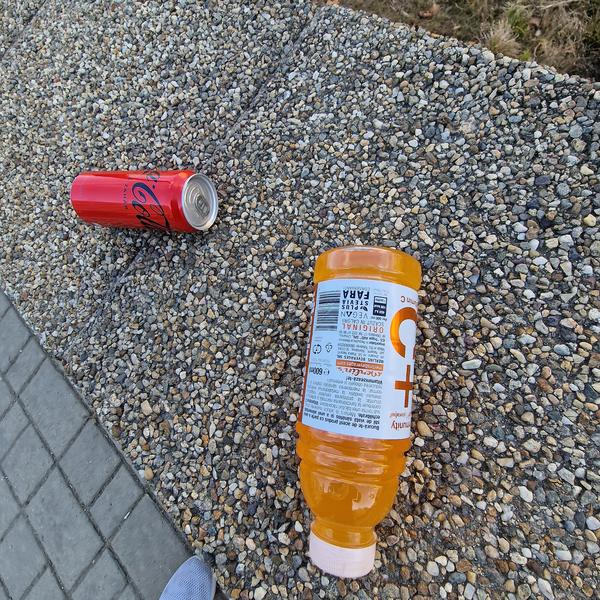can: (70, 170, 219, 233)
plastic_bottle: (280, 239, 431, 583)
